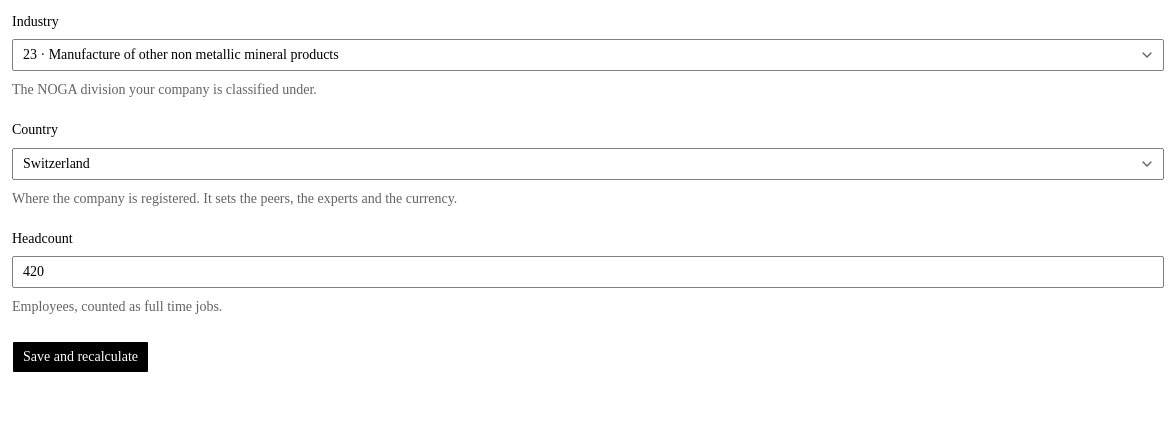
Scenario: FactsForm (AC-11) › sends only the changed headcount, never the untouched division, then announces and refreshes
The width and height of the screenshot is (1176, 433).
Replace the text in the number field labelled "Headcount" with "512": (588,272) [12,256,1164,288]
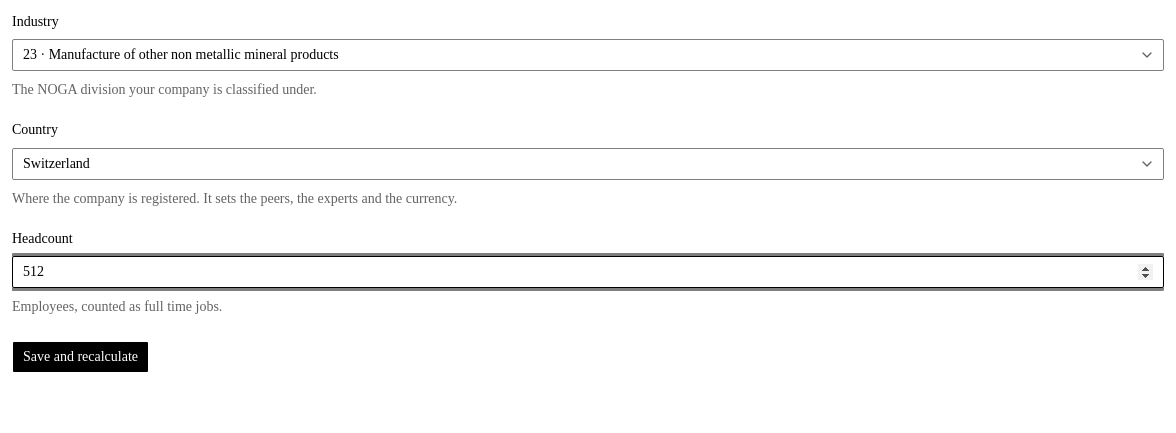
Click the button "Save and recalculate": (80,357) [12,341,149,373]
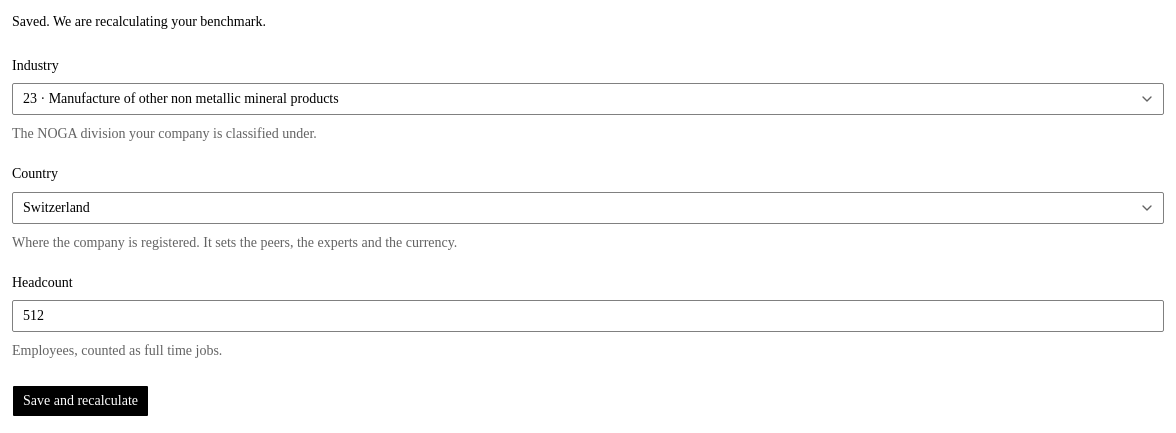
Expected: the message reads "Saved. We are recalculating your benchmark.", [12,14,266,29]
